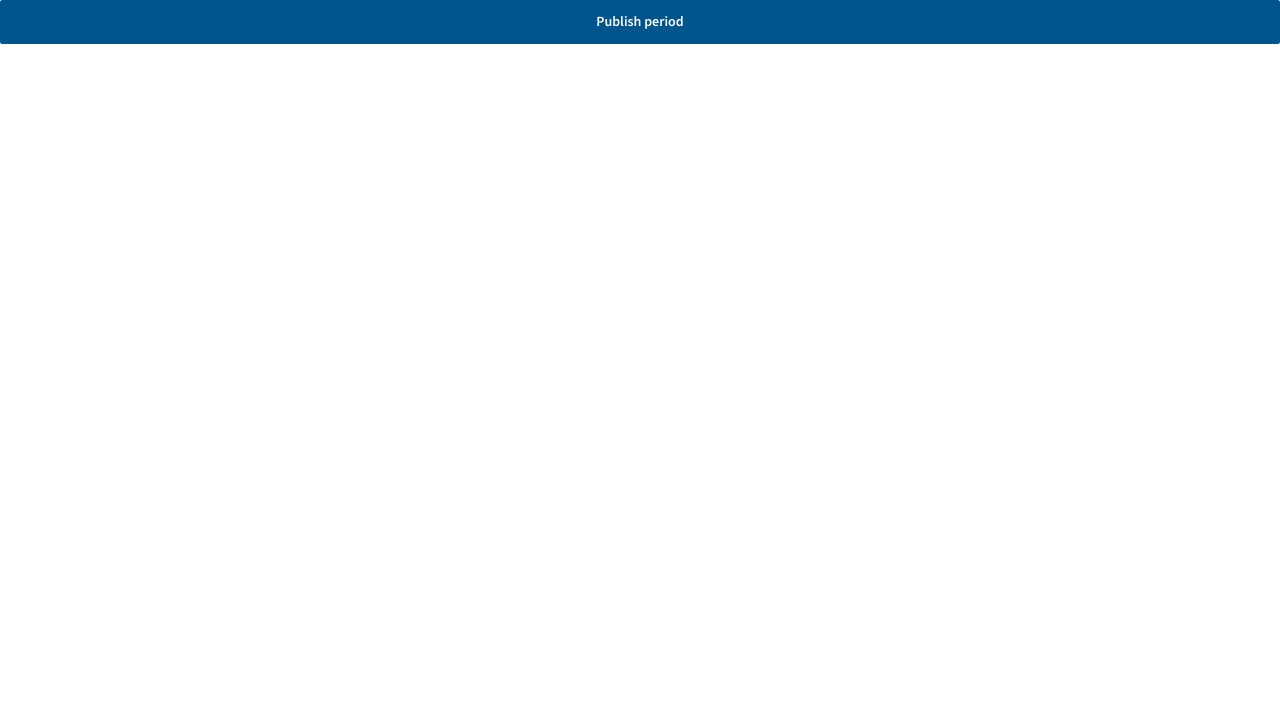
Test: the publish period action › says the period is not in your unit when the api answers 404
The width and height of the screenshot is (1280, 720).
Click the button "Publish period" at (640, 22), box left=0, top=0, right=1279, bottom=44
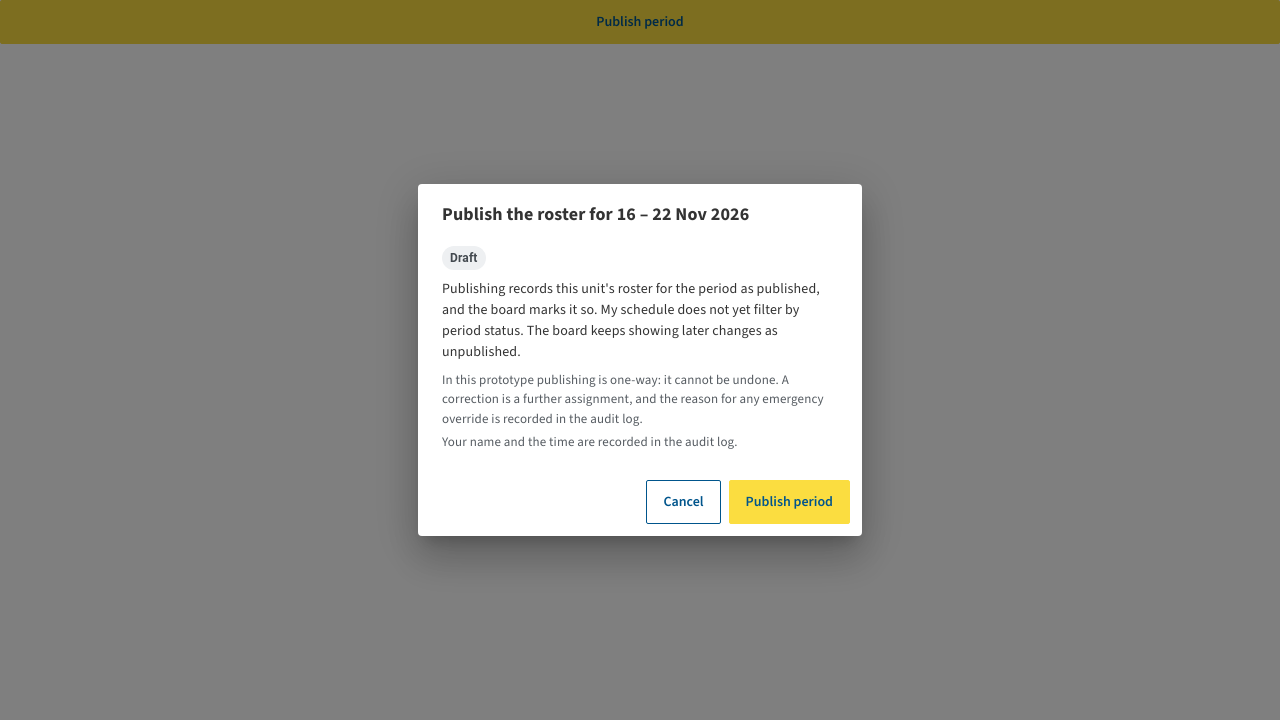
Click the button "Publish period" at (789, 502), box left=729, top=480, right=850, bottom=524
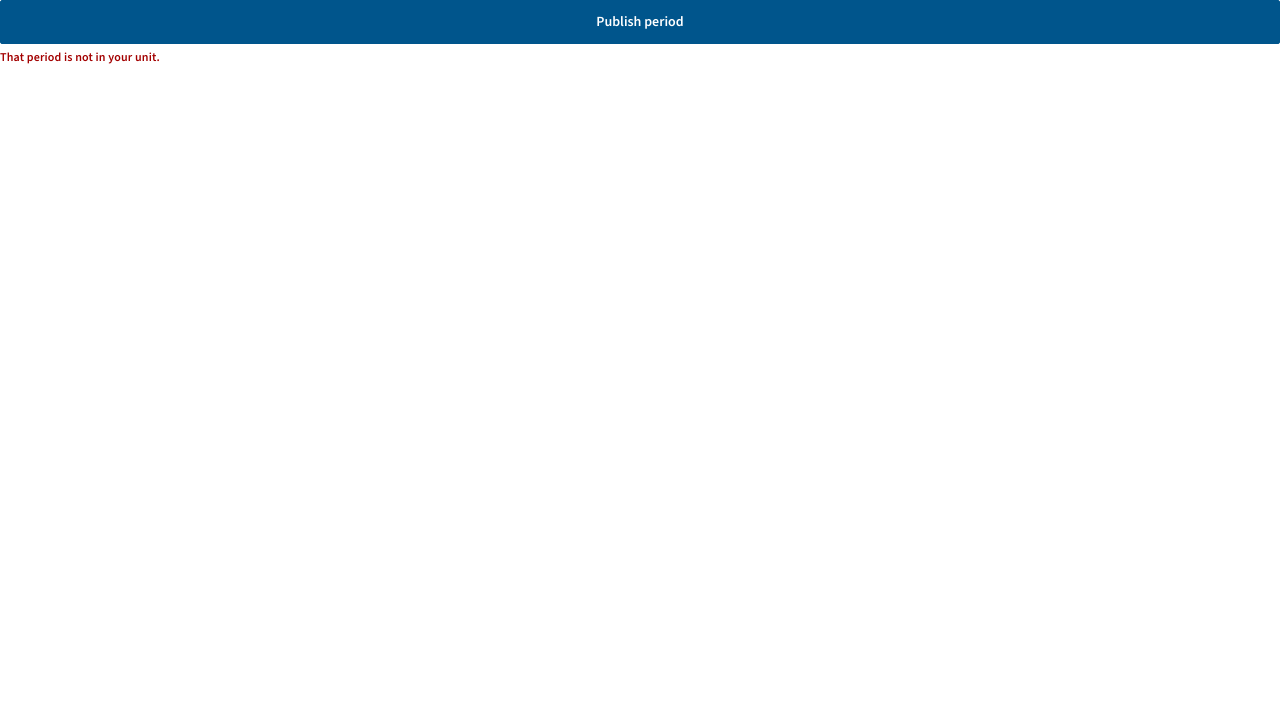
Result: the text "That period is not in your unit." is shown at left=0, top=49, right=160, bottom=65
